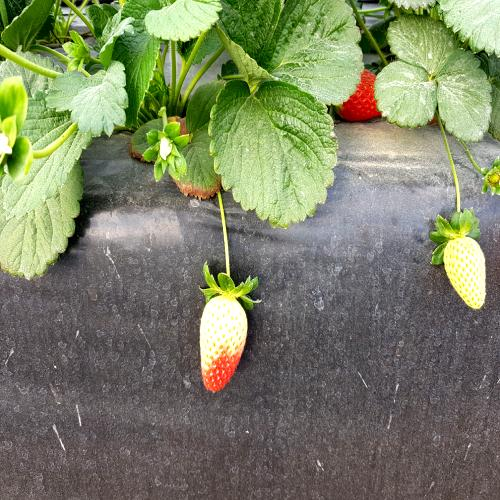partially-ripe: (200, 294, 248, 398)
